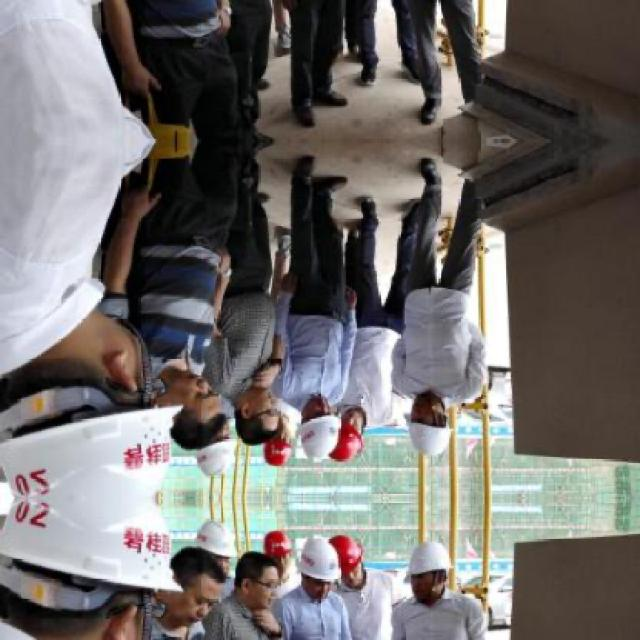con casco: (4, 346, 164, 508), (385, 397, 472, 466), (310, 415, 371, 472), (188, 417, 232, 484), (289, 401, 326, 466)
sin casco: (139, 352, 239, 464), (216, 366, 285, 459)
